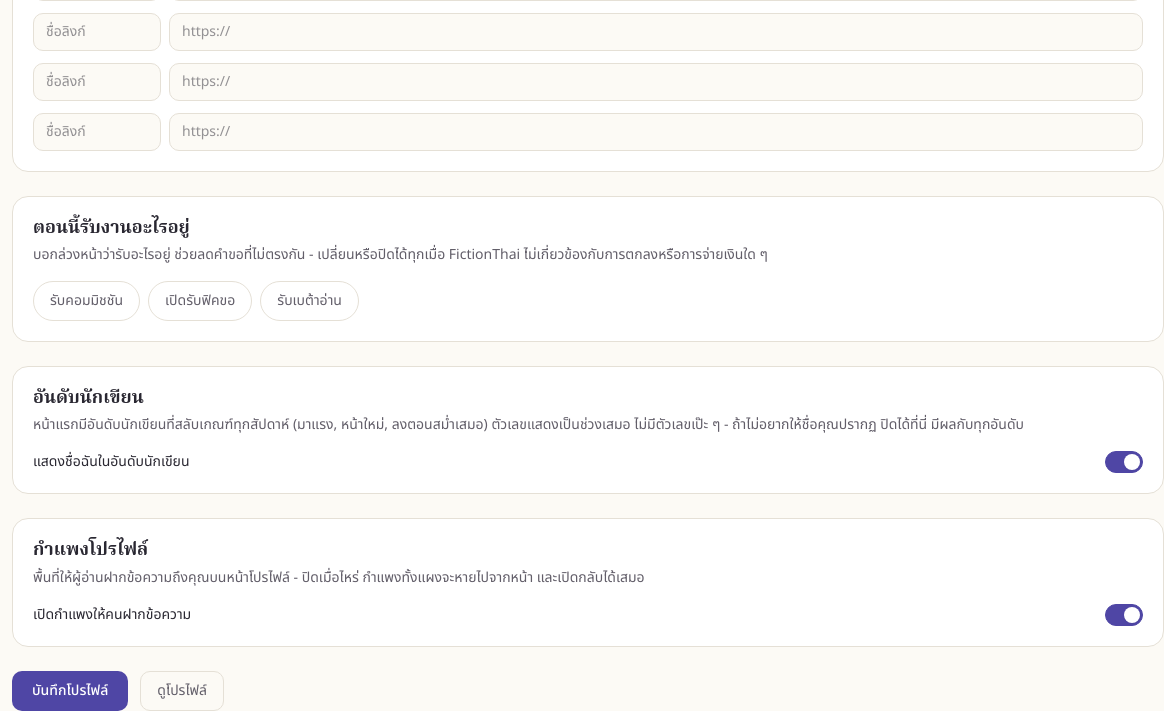
the profile editor › puts a field error on its own field
(page scrolled)
Click the button "บันทึกโปรไฟล์".
click(70, 691)  # box [12,671,128,710]
(page scrolled)
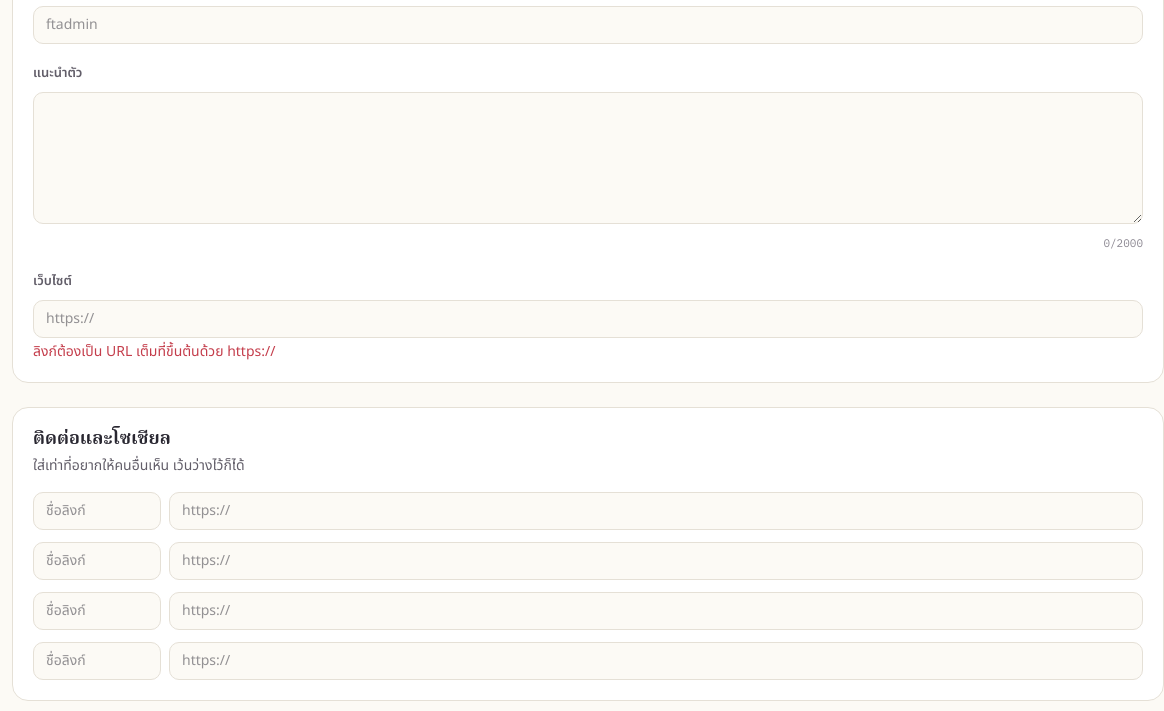
expect the text "ลิงก์ต้องเป็น URL เต็มที่ขึ้นต้นด้วย https://" is shown: met, box [33,340,275,362]
